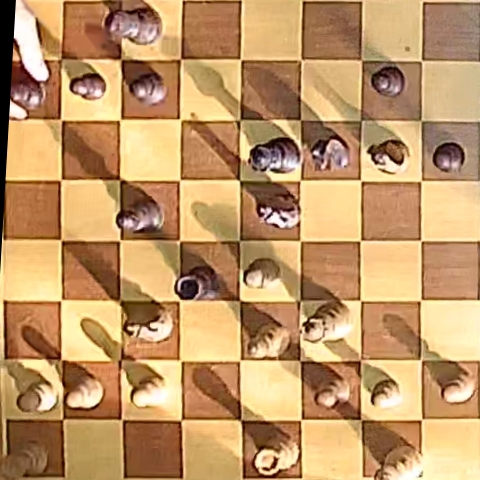black-bishop: (117, 199, 163, 233), (371, 66, 405, 98)
black-king: (105, 6, 162, 45)
black-knight: (257, 197, 301, 229), (310, 136, 350, 171)
black-pawn: (129, 72, 167, 105), (11, 78, 48, 110), (432, 142, 465, 173), (70, 73, 106, 101)
black-queen: (249, 137, 299, 173)
black-rook: (176, 266, 218, 300)
white-bishop: (246, 322, 290, 359)
white-king: (375, 445, 424, 479)
white-knight: (123, 302, 173, 343), (367, 139, 409, 174)
white-pawn: (435, 362, 476, 404), (314, 375, 352, 410), (18, 380, 58, 413), (66, 375, 103, 410), (131, 375, 168, 408), (244, 258, 280, 289), (371, 379, 402, 409)
white-queen: (298, 299, 352, 345)
white-rook: (253, 431, 298, 476), (2, 440, 48, 479)
